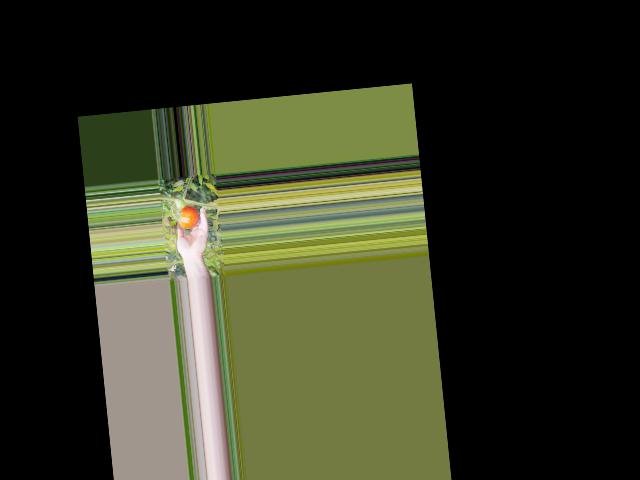tomato: (177, 204, 199, 230)
